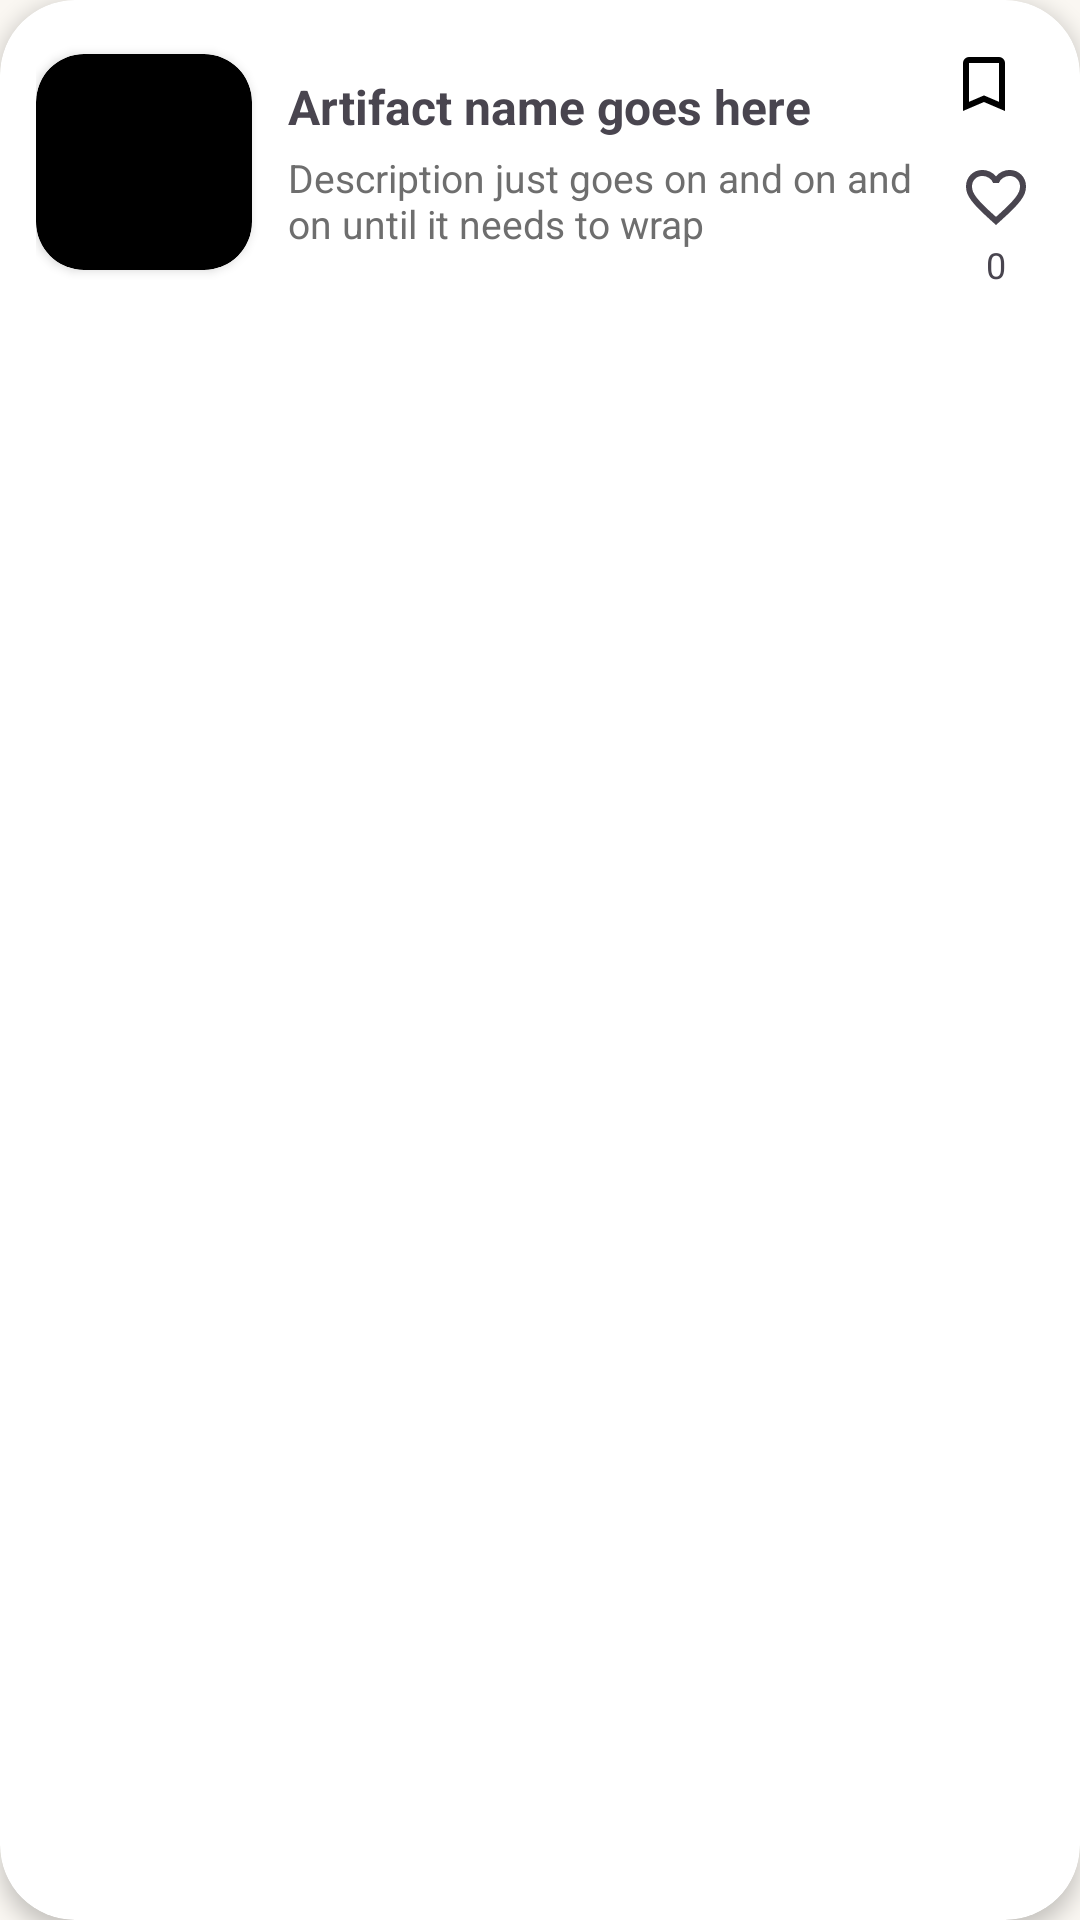

Point at icon controls on the screen. Image size 1080 × 1920, points as point (x, y).
Likes: point (996, 197)
toggle saved: point (984, 84)
